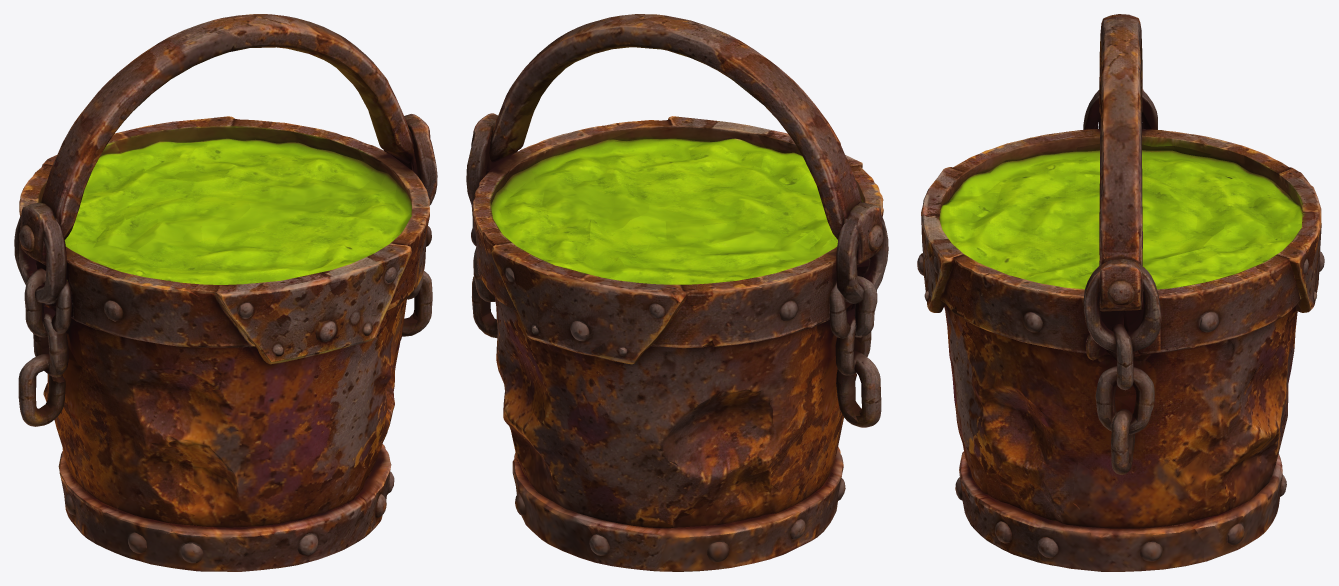
Rendered from bucket.glb.
The picture shows the model from 3 angles, left to right: view 1: azimuth 30°, elevation 25°; view 2: azimuth 150°, elevation 25°; view 3: azimuth 270°, elevation 25°; orthographic projection. The views are drawn at different scales.
Visible parts, largest first — view 1: Mesh_0; view 2: Mesh_0; view 3: Mesh_0.
Part boxes in pixels (left/top/right/bottom): Mesh_0: left=14, top=14, right=437, bottom=571; Mesh_0: left=466, top=14, right=888, bottom=571; Mesh_0: left=917, top=14, right=1324, bottom=571.
Size of the model in its own units: 1.69 by 1.9 by 1.49.
1 material, 1 textured.
